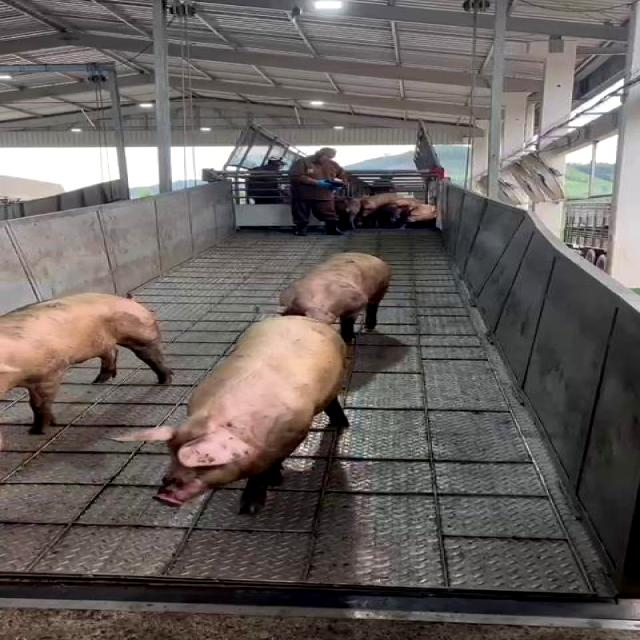pig: (115, 317, 347, 512), (1, 294, 171, 432), (280, 252, 392, 338), (280, 253, 391, 339)
